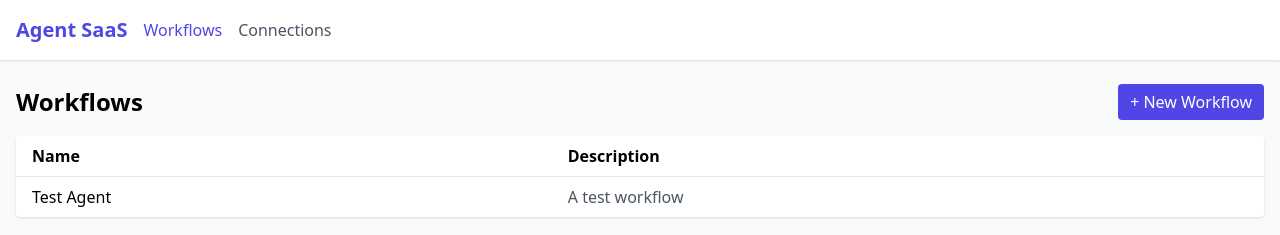
Test: Basic Navigation › should return to home page from logo
The width and height of the screenshot is (1280, 235).
Click the link "Agent SaaS".
click(72, 30)  # box top-left (16, 16), bottom-right (128, 44)
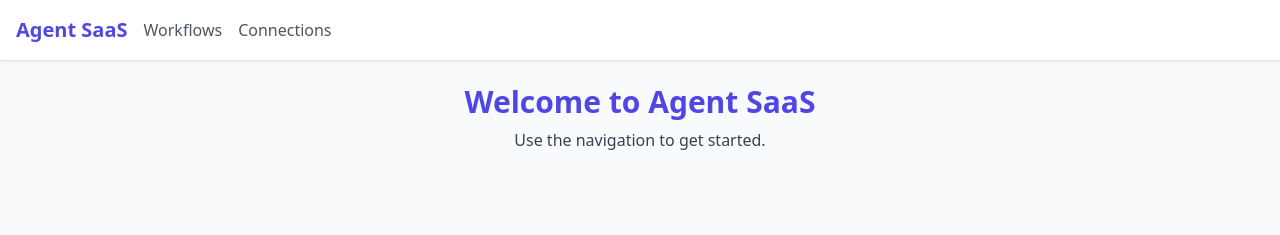
expect the heading "Welcome to Agent SaaS" is shown: met, box top-left (464, 81), bottom-right (815, 122)
